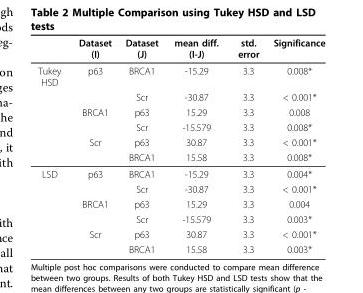table: (37, 36, 324, 254)
table column: (165, 36, 227, 254), (265, 36, 324, 254), (69, 36, 117, 254), (117, 36, 165, 254), (227, 36, 265, 254), (37, 36, 69, 254)
table column header: (37, 36, 324, 62)
table row: (37, 62, 324, 89), (37, 36, 324, 62), (37, 149, 324, 165), (37, 165, 324, 181), (37, 89, 324, 104), (37, 104, 324, 119), (37, 119, 324, 134), (37, 134, 324, 149), (37, 181, 324, 196), (37, 196, 324, 211), (37, 211, 324, 226), (37, 226, 324, 241), (37, 241, 324, 254)
table spanning cell: (37, 62, 69, 165), (37, 165, 69, 254)
